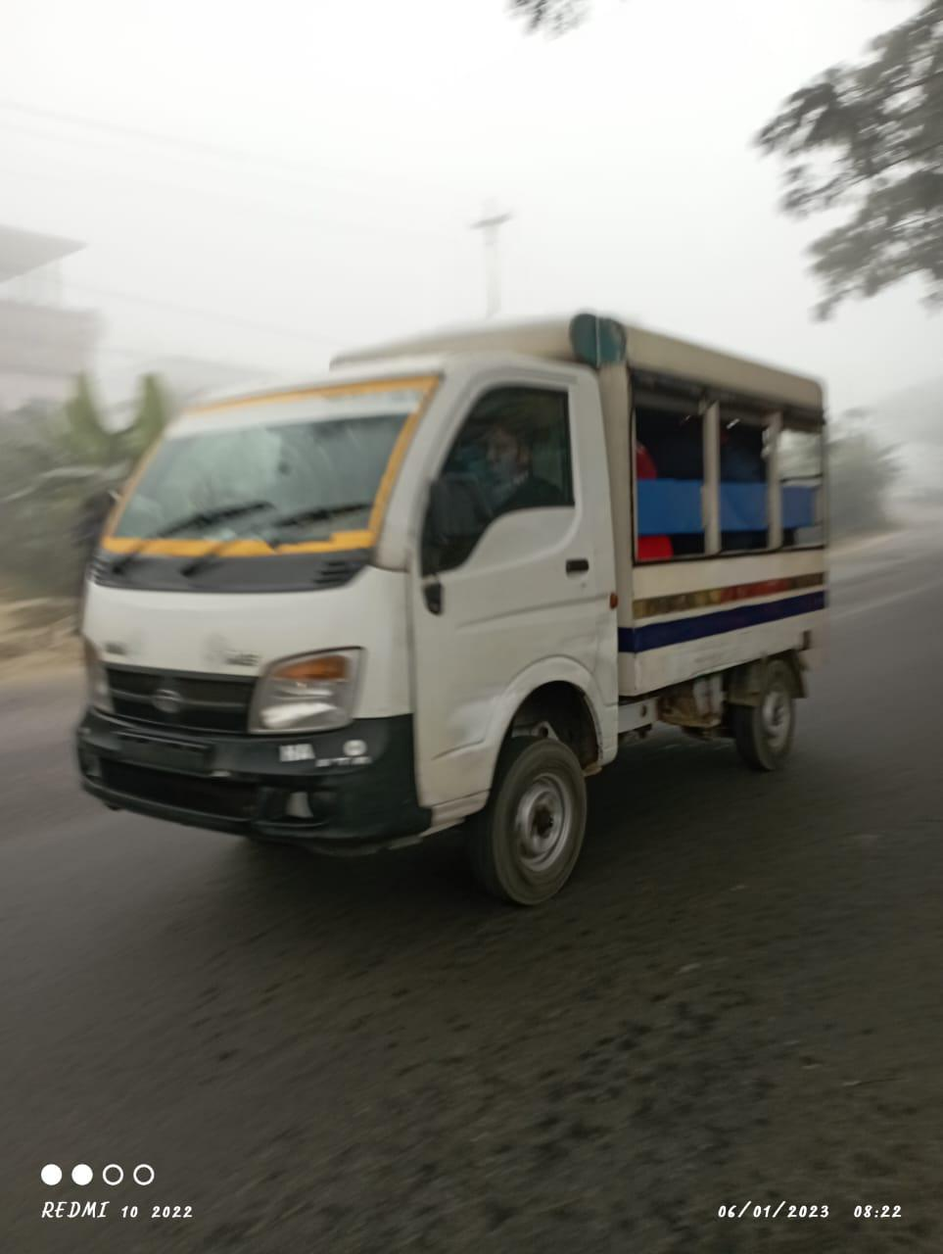Car: (47, 303, 856, 904)
